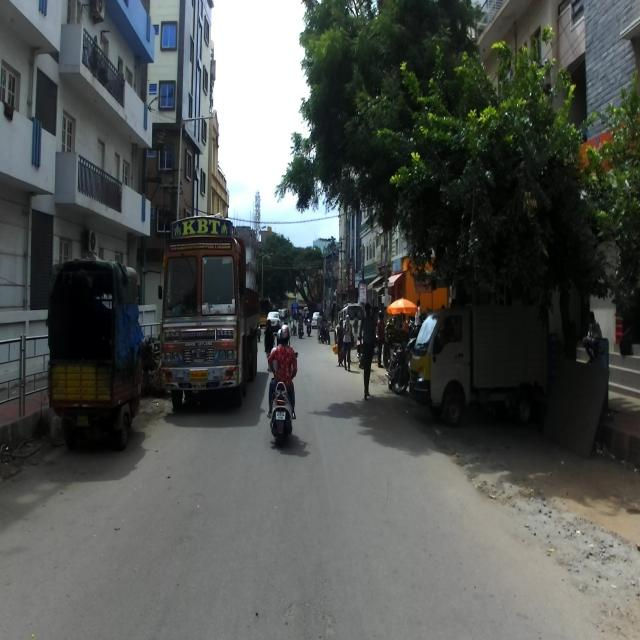autorickshaw: (48, 257, 144, 451)
motorcycle: (386, 340, 411, 399)
scooter: (266, 349, 300, 448)
truck: (162, 214, 262, 416), (409, 303, 547, 428)
